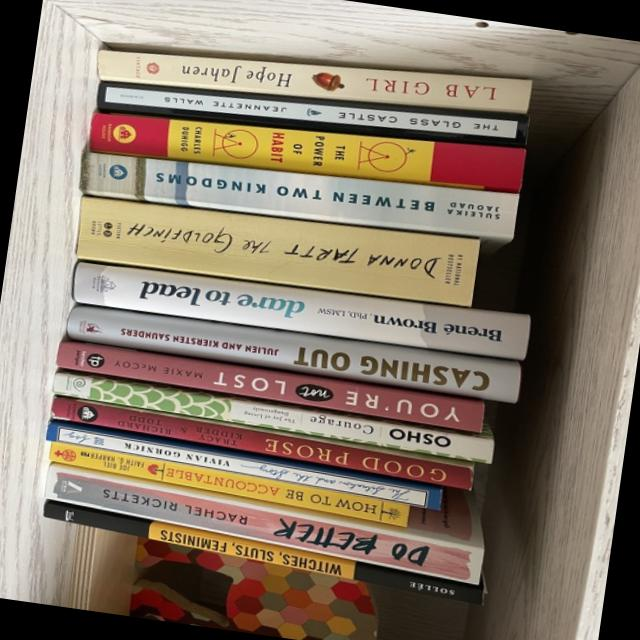book: (41, 434, 491, 585), (43, 499, 486, 606), (70, 261, 531, 361), (65, 303, 523, 403), (77, 151, 518, 253), (74, 196, 479, 307), (50, 370, 495, 464), (55, 339, 485, 432), (49, 396, 474, 489), (45, 419, 444, 509), (88, 113, 526, 194), (47, 441, 409, 526), (96, 81, 529, 148), (96, 50, 530, 114)
